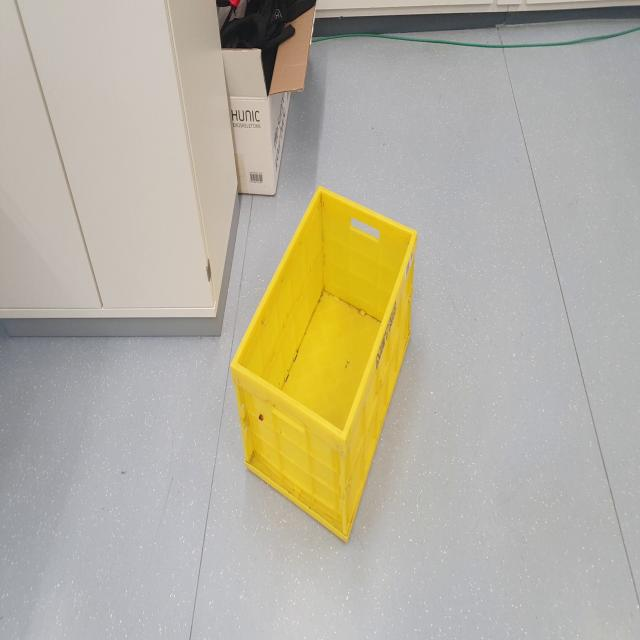box: (220, 180, 420, 560)
